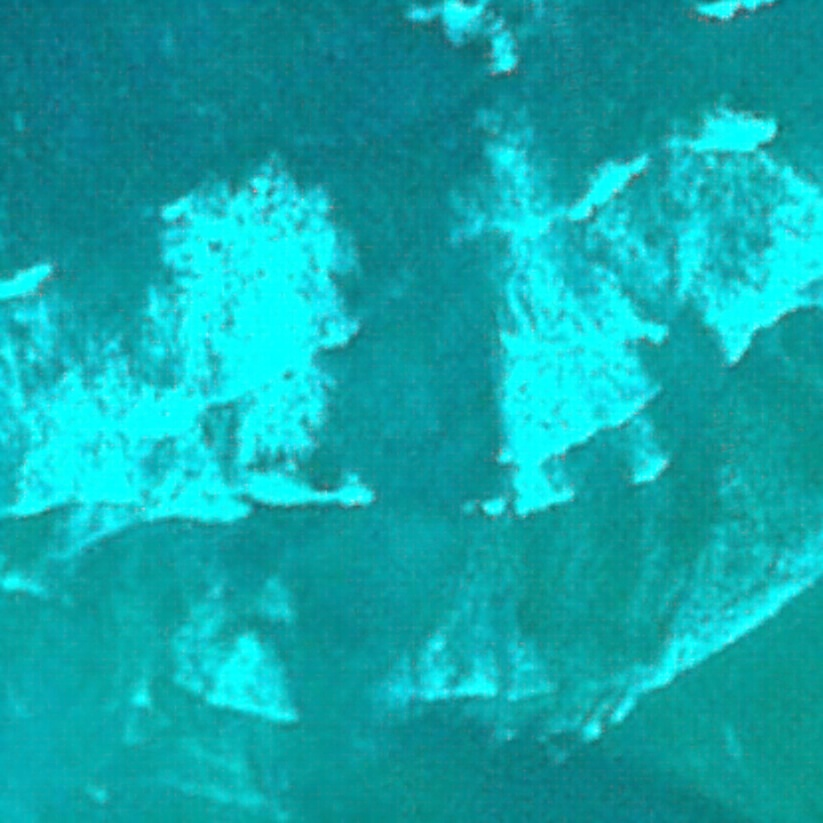rip_current: (229, 91, 567, 726)
